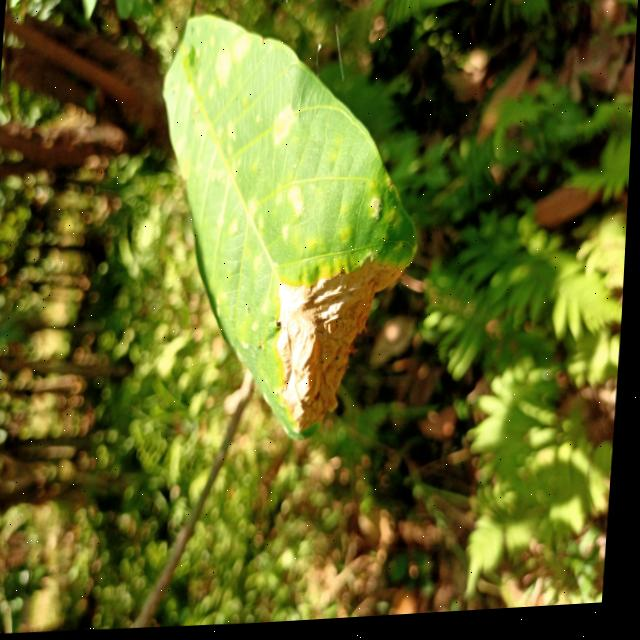Leaf-Blight: (272, 260, 408, 438)
